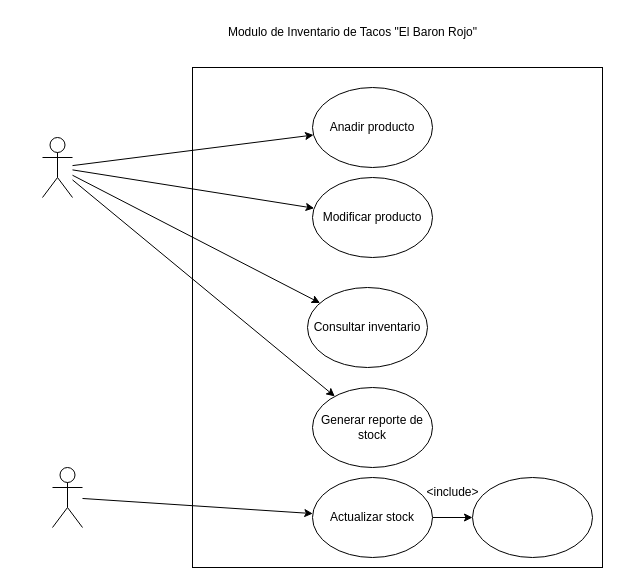
Some shapes in this 620 by 585 pixel diagram are drawn without their labels. The centre of each missing label's shape, as x and y in pixels:
Empleado: point (57, 167)
Procesar pedido: point (532, 517)
Sistema de Ventas: point (67, 497)
